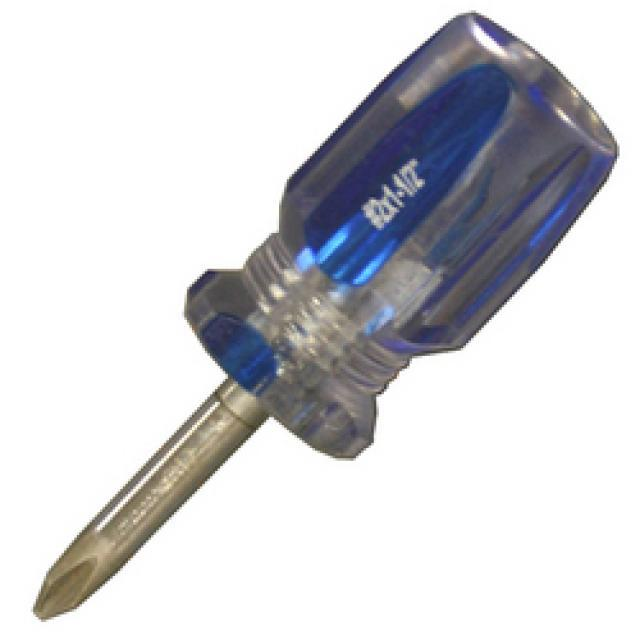screwdriver: (24, 8, 625, 622)
